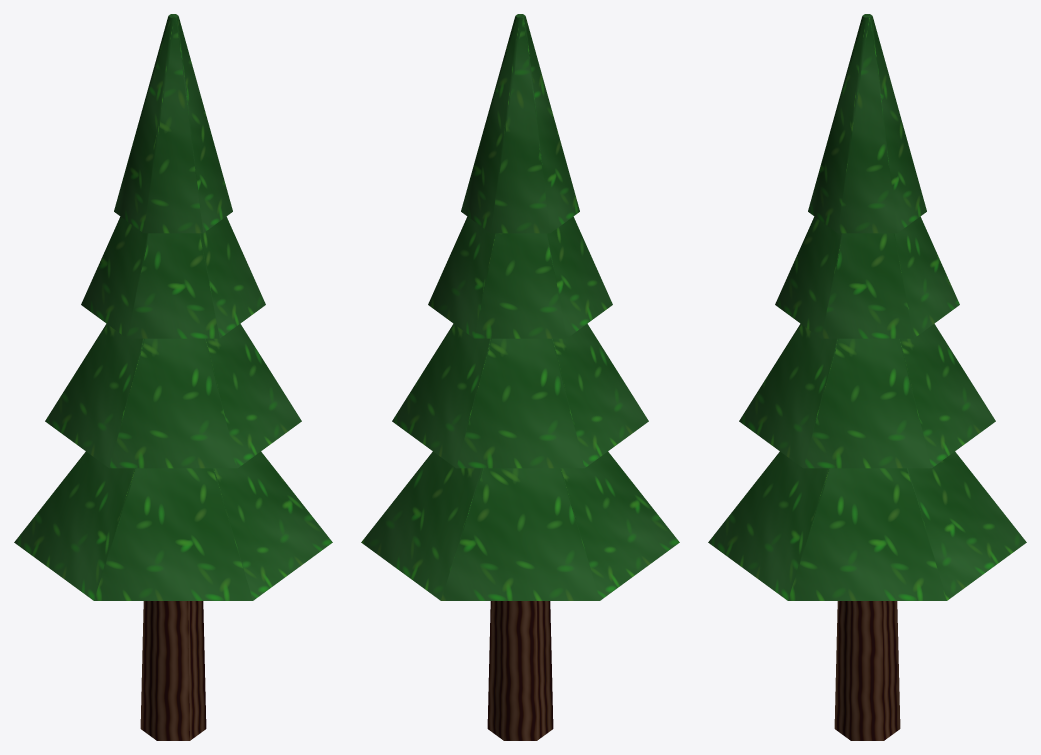
The model's file is tree-northern-pine.lod1.gltf.
The picture shows the model from 3 angles, left to right: view 1: azimuth 30°, elevation 25°; view 2: azimuth 150°, elevation 25°; view 3: azimuth 270°, elevation 25°; orthographic projection.
Parts seen in each view (by area): view 1: tree-northern-pine; view 2: tree-northern-pine; view 3: tree-northern-pine.
Part boxes in pixels (<box>): tree-northern-pine: <box>14,14,332,740</box>; tree-northern-pine: <box>361,14,679,740</box>; tree-northern-pine: <box>708,14,1026,740</box>.
Bounding box in the file's own units: 2.68 × 7.65 × 3.1.
Materials: 2 (2 with a texture image).
